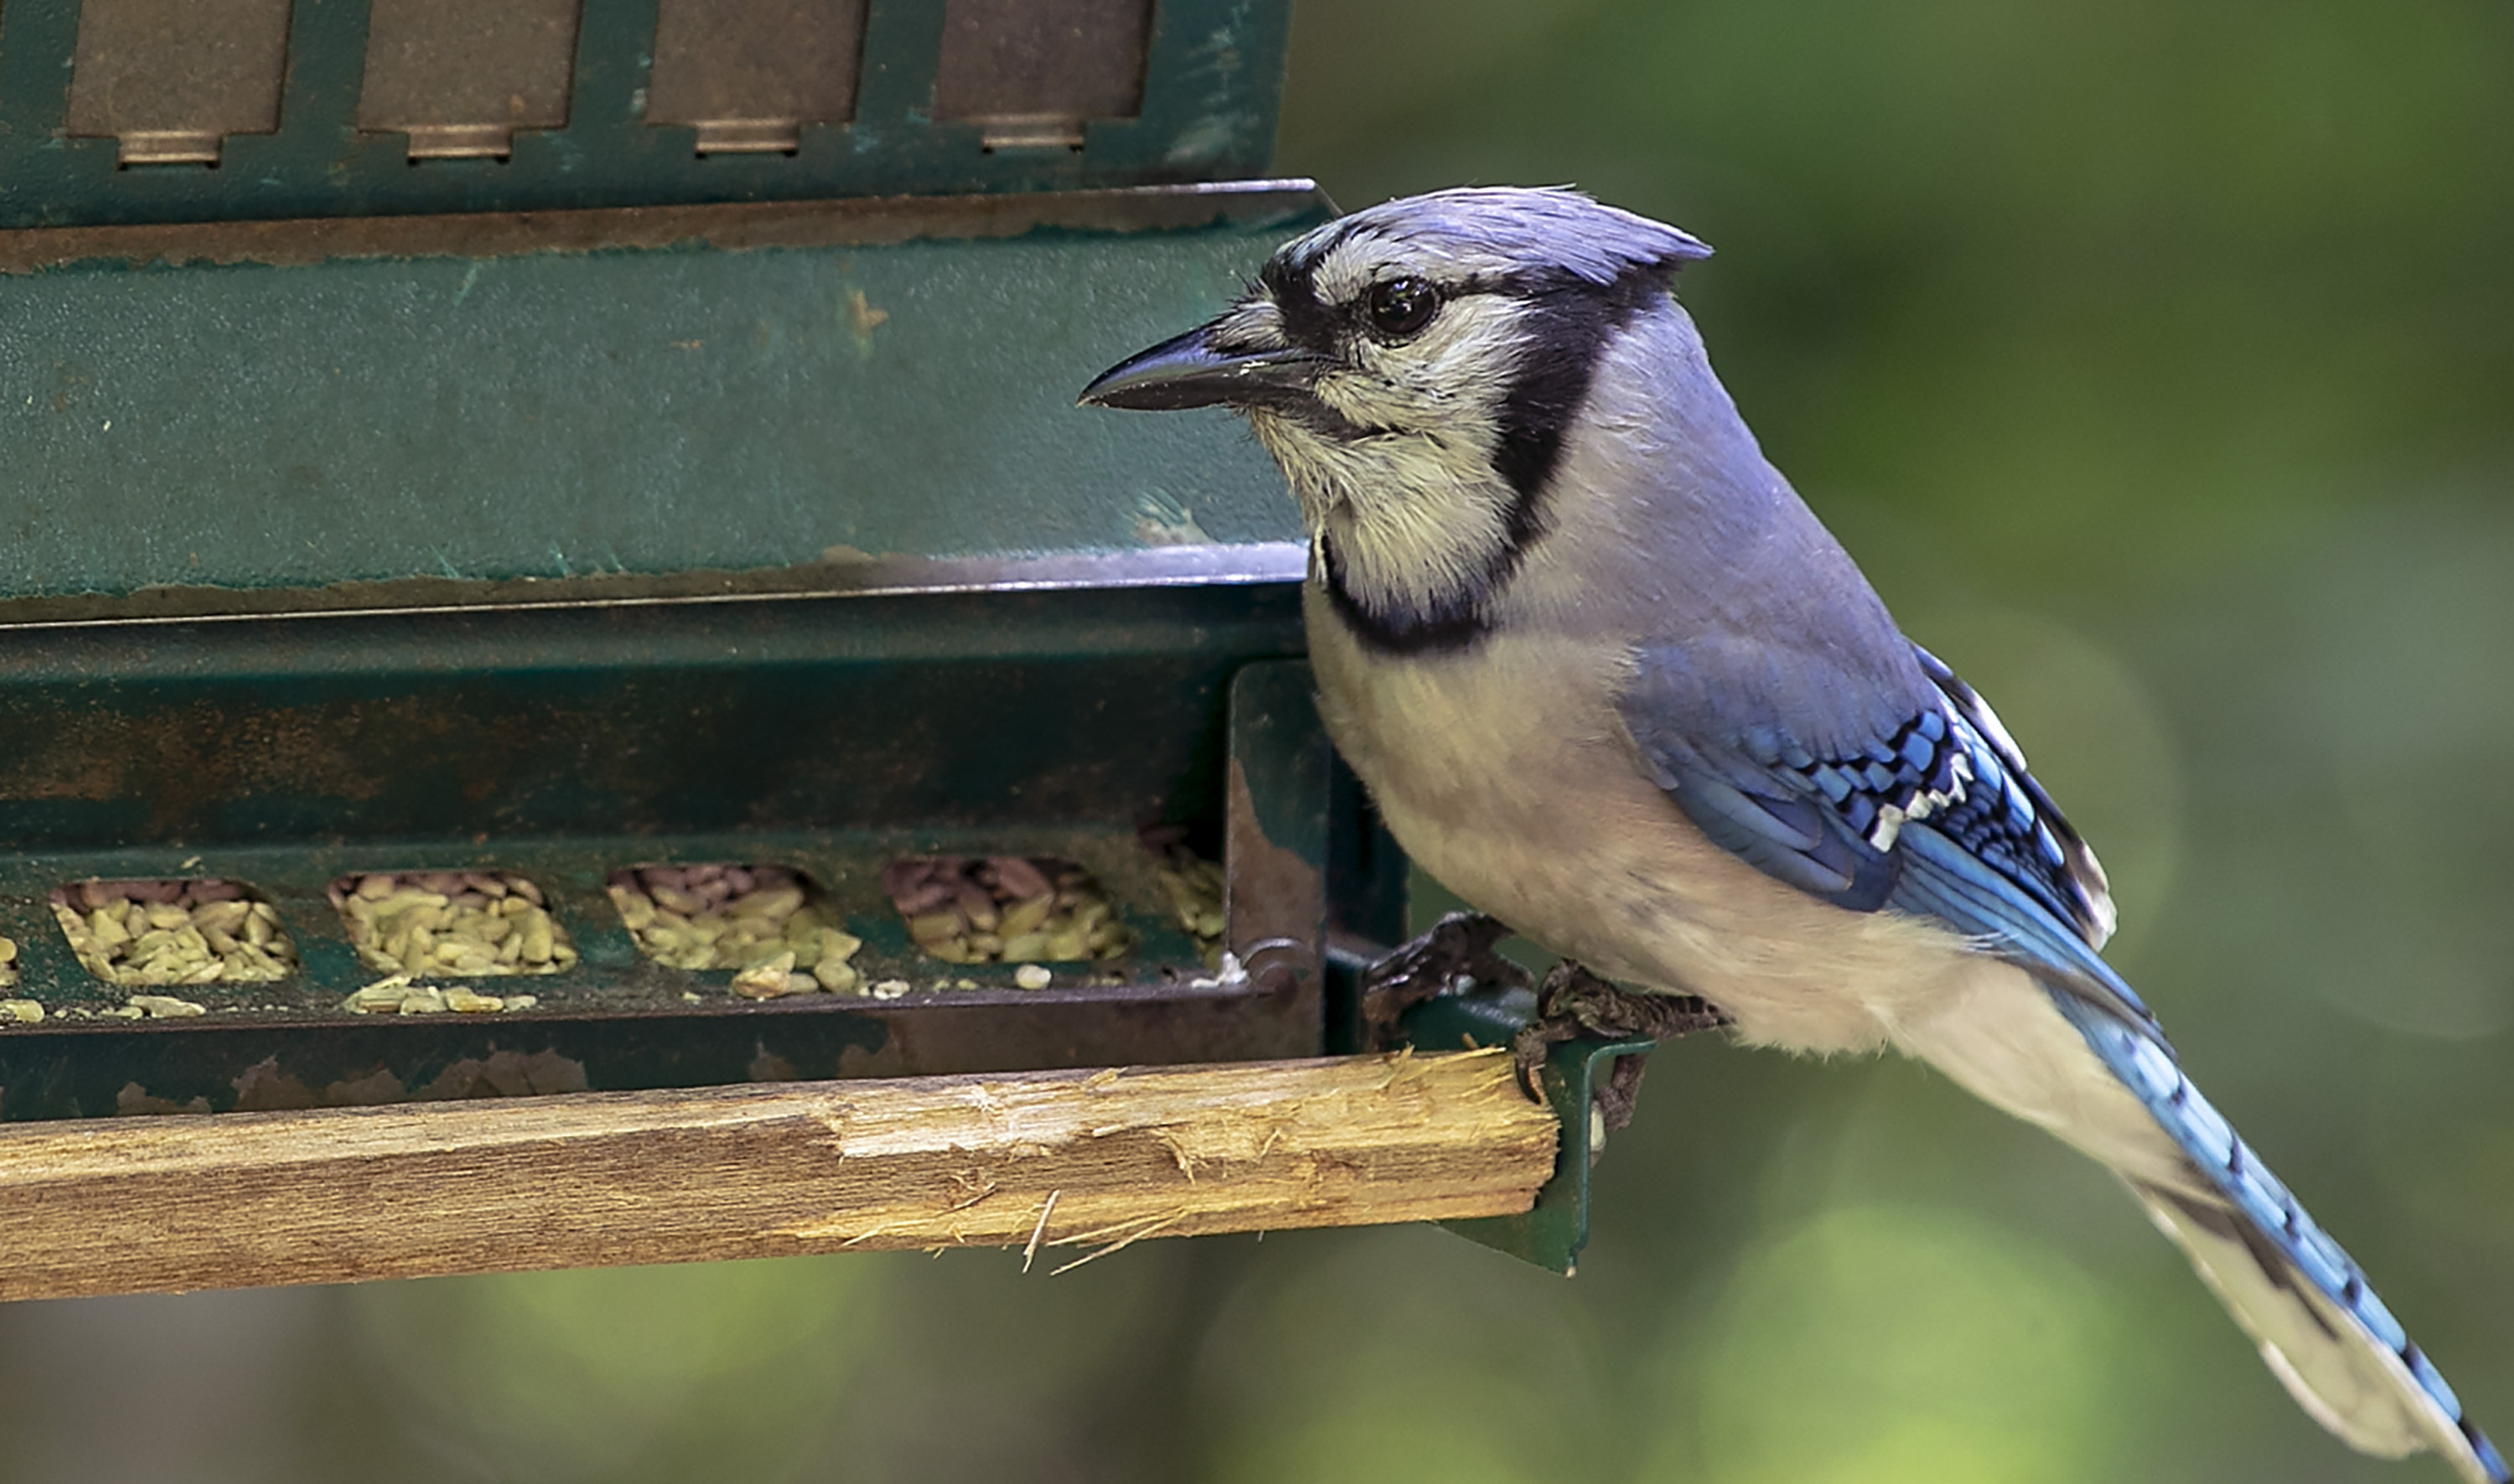seed: (27, 844, 302, 1078), (595, 813, 883, 1026), (290, 832, 588, 1037), (882, 802, 1136, 1014)
